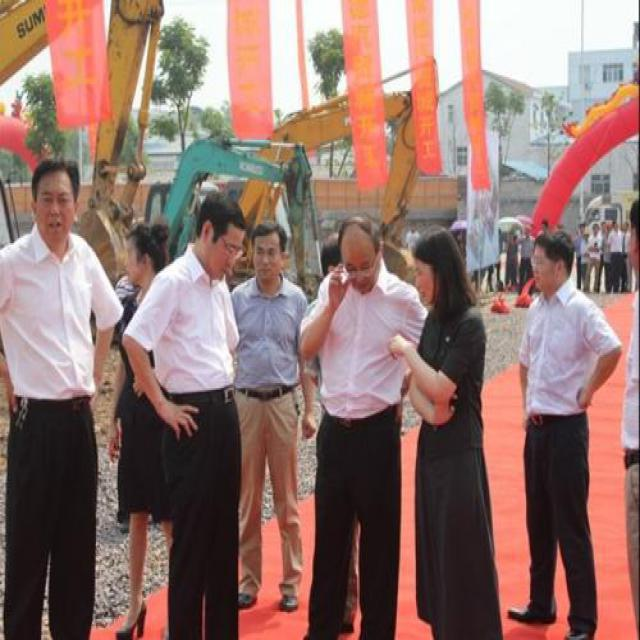head: (28, 153, 79, 244), (407, 230, 463, 312), (192, 190, 242, 279), (335, 216, 386, 290), (530, 220, 576, 297), (249, 209, 289, 286), (125, 220, 164, 293)
person: (5, 157, 120, 636), (303, 213, 430, 634), (502, 215, 623, 640), (139, 190, 253, 640), (400, 221, 501, 640), (232, 207, 320, 622)
